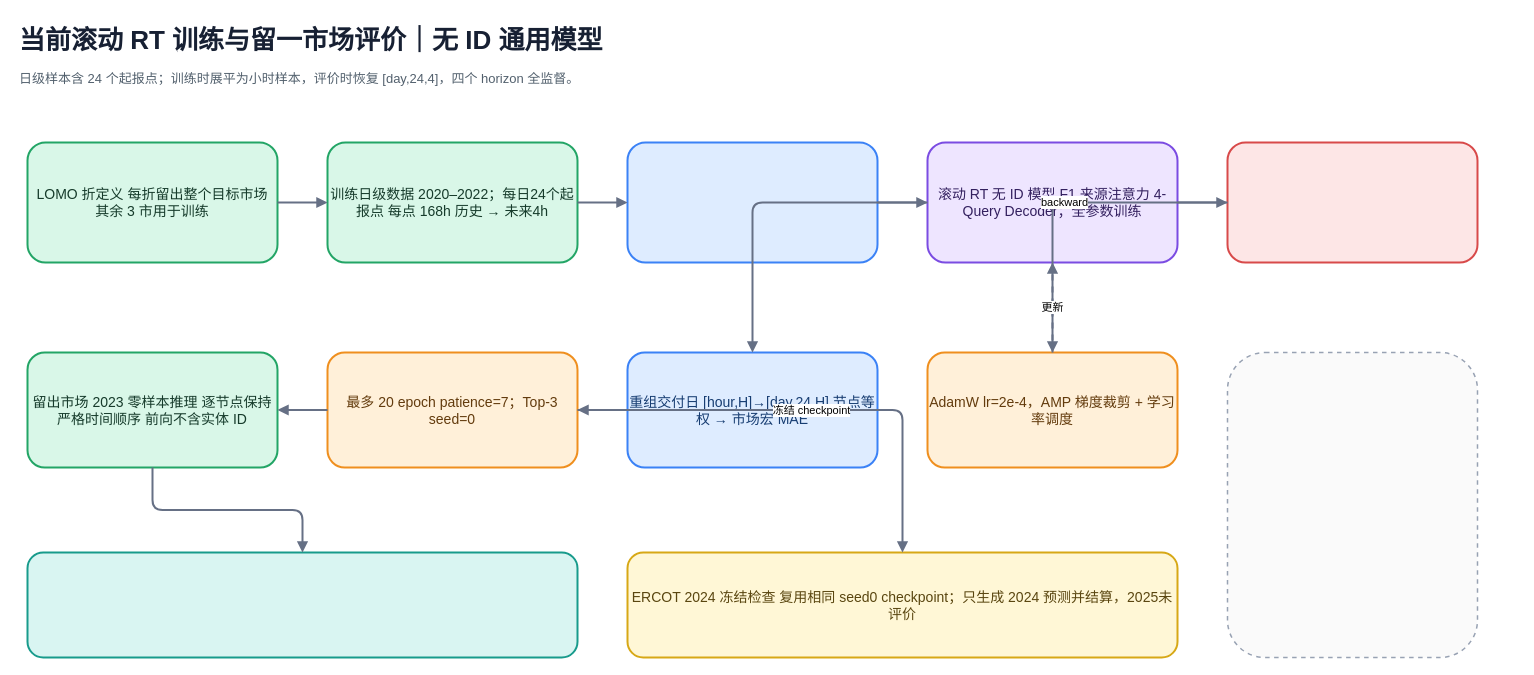
Some shapes in this 1534 by 675 pixel diagram are drawn without their labels. The shapes that lost their labels are listed below. From the top down, each one's box as (x1, y1, x2, y2) in pixels, then its label:
(626, 141, 878, 263): 展平小时样本 [day,24,H] → [hour,H] Context-Robust；不向网络传 ID
(1226, 141, 1478, 263): 训练损失：MAE 未来 4 个 horizon 全监督 盈利 / MPC 不反向传播
(1226, 351, 1478, 658): 部署边界 每小时预测未来4h，MPC求解4h但只执行第1h；真实RT在动作后用于结算。模型本身只学价格，不直接最大化利润。
(26, 551, 578, 658): 留出结果 四市场 4/4 优于 lag-168，MAE 改善约 43%–58% 预测输出随后进入固定 DA 的连续 RT MPC
